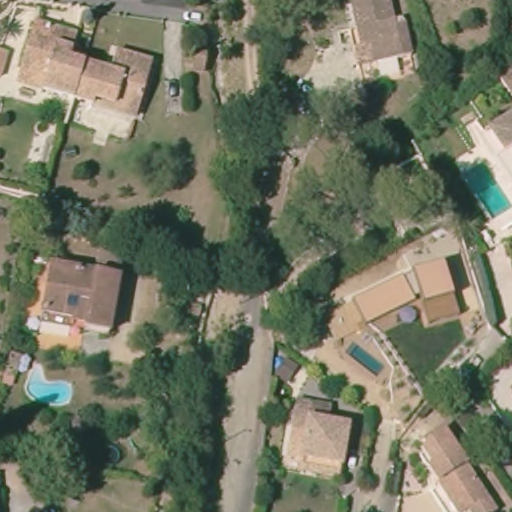pool: (456, 160, 512, 221), (20, 363, 83, 411), (342, 335, 388, 382)
